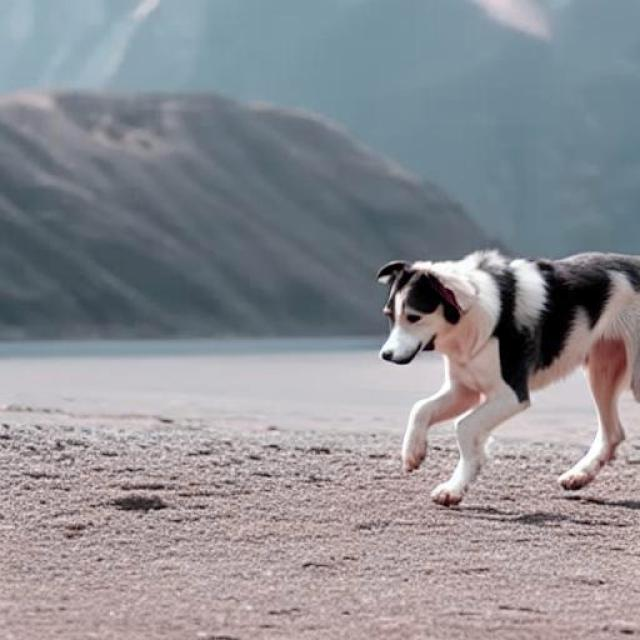Dog: (375, 247, 640, 505)
